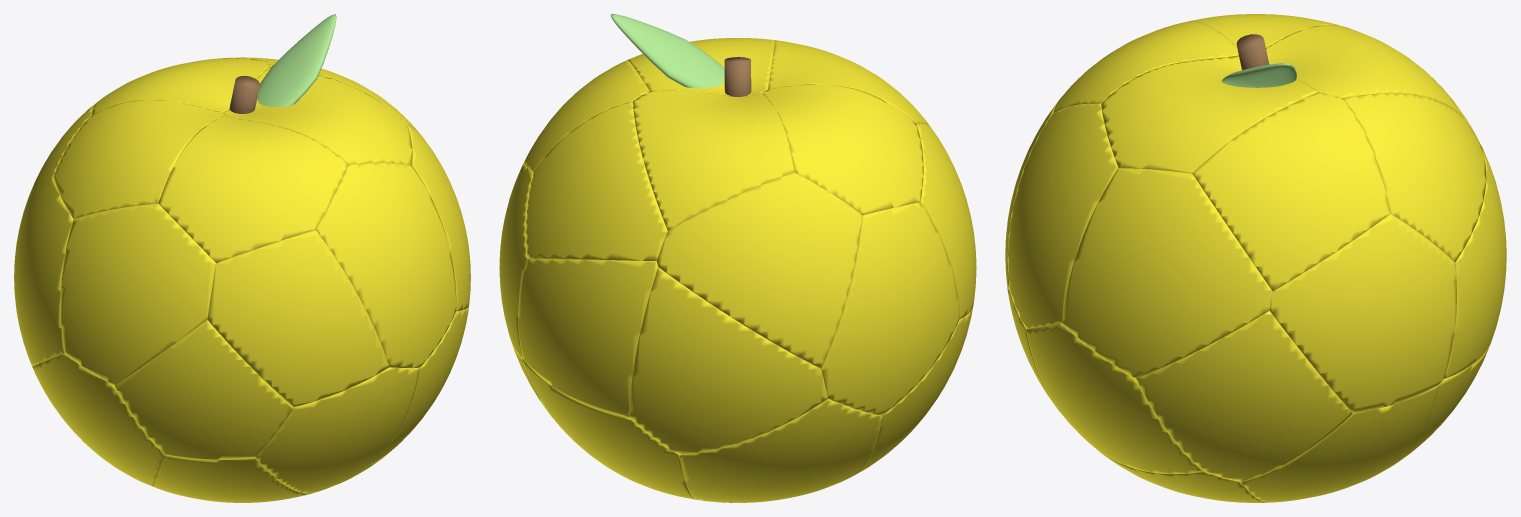
The model's file is apple_c1.glb.
The picture shows the model from 3 angles, left to right: view 1: azimuth 30°, elevation 25°; view 2: azimuth 150°, elevation 25°; view 3: azimuth 270°, elevation 25°; orthographic projection. The views are drawn at different scales.
Visible parts, largest first — view 1: AppleWax_08, AppleWax_00, AppleWax_02, AppleWax_05, AppleWax_03, AppleWax_13, AppleWax_01, AppleWax_10, AppleWax_16, AppleWax_11, AppleWax_18, AppleWax_06 (+6 smaller); view 2: AppleWax_21, AppleWax_24, AppleWax_16, AppleWax_25, AppleWax_23, AppleWax_18, AppleWax_13, AppleWax_19, AppleWax_22, AppleWax_08, AppleWax_05, AppleWax_15 (+5 smaller); view 3: AppleWax_07, AppleWax_20, AppleWax_15, AppleWax_12, AppleWax_02, AppleWax_10, AppleWax_23, AppleWax_04, AppleWax_17, AppleWax_18, AppleWax_25, AppleWax_05 (+7 smaller).
Boxes of the visible parts, bbox=[...] form: AppleWax_08: bbox=[60, 203, 216, 385]; AppleWax_00: bbox=[207, 230, 389, 407]; AppleWax_02: bbox=[316, 162, 456, 368]; AppleWax_05: bbox=[158, 115, 348, 262]; AppleWax_03: bbox=[115, 320, 293, 459]; AppleWax_13: bbox=[53, 99, 224, 218]; AppleWax_01: bbox=[255, 367, 419, 493]; AppleWax_10: bbox=[223, 67, 412, 165]; AppleWax_16: bbox=[14, 177, 73, 366]; AppleWax_11: bbox=[32, 353, 164, 486]; AppleWax_18: bbox=[91, 58, 269, 114]; AppleWax_06: bbox=[153, 455, 312, 502]; AppleWax_21: bbox=[656, 172, 862, 368]; AppleWax_24: bbox=[629, 267, 827, 455]; AppleWax_16: bbox=[821, 202, 959, 415]; AppleWax_25: bbox=[518, 259, 658, 417]; AppleWax_23: bbox=[525, 101, 667, 260]; AppleWax_18: bbox=[633, 90, 794, 230]; AppleWax_13: bbox=[762, 84, 923, 215]; AppleWax_19: bbox=[680, 399, 881, 502]; AppleWax_22: bbox=[522, 358, 694, 498]; AppleWax_08: bbox=[916, 123, 976, 319]; AppleWax_05: bbox=[768, 40, 928, 124]; AppleWax_15: bbox=[524, 60, 649, 171]; AppleWax_07: bbox=[1062, 168, 1272, 378]; AppleWax_20: bbox=[1269, 214, 1456, 413]; AppleWax_15: bbox=[1192, 92, 1390, 291]; AppleWax_12: bbox=[1136, 311, 1352, 482]; AppleWax_02: bbox=[1007, 103, 1118, 328]; AppleWax_10: bbox=[1101, 55, 1317, 173]; AppleWax_23: bbox=[1342, 93, 1486, 262]; AppleWax_04: bbox=[1026, 322, 1203, 474]; AppleWax_17: bbox=[1241, 386, 1437, 502]; AppleWax_18: bbox=[1266, 25, 1463, 117]; AppleWax_25: bbox=[1444, 147, 1506, 378]; AppleWax_05: bbox=[1053, 21, 1238, 112].
Size of the model in its own units: 2.15 by 2.19 by 2.15.
